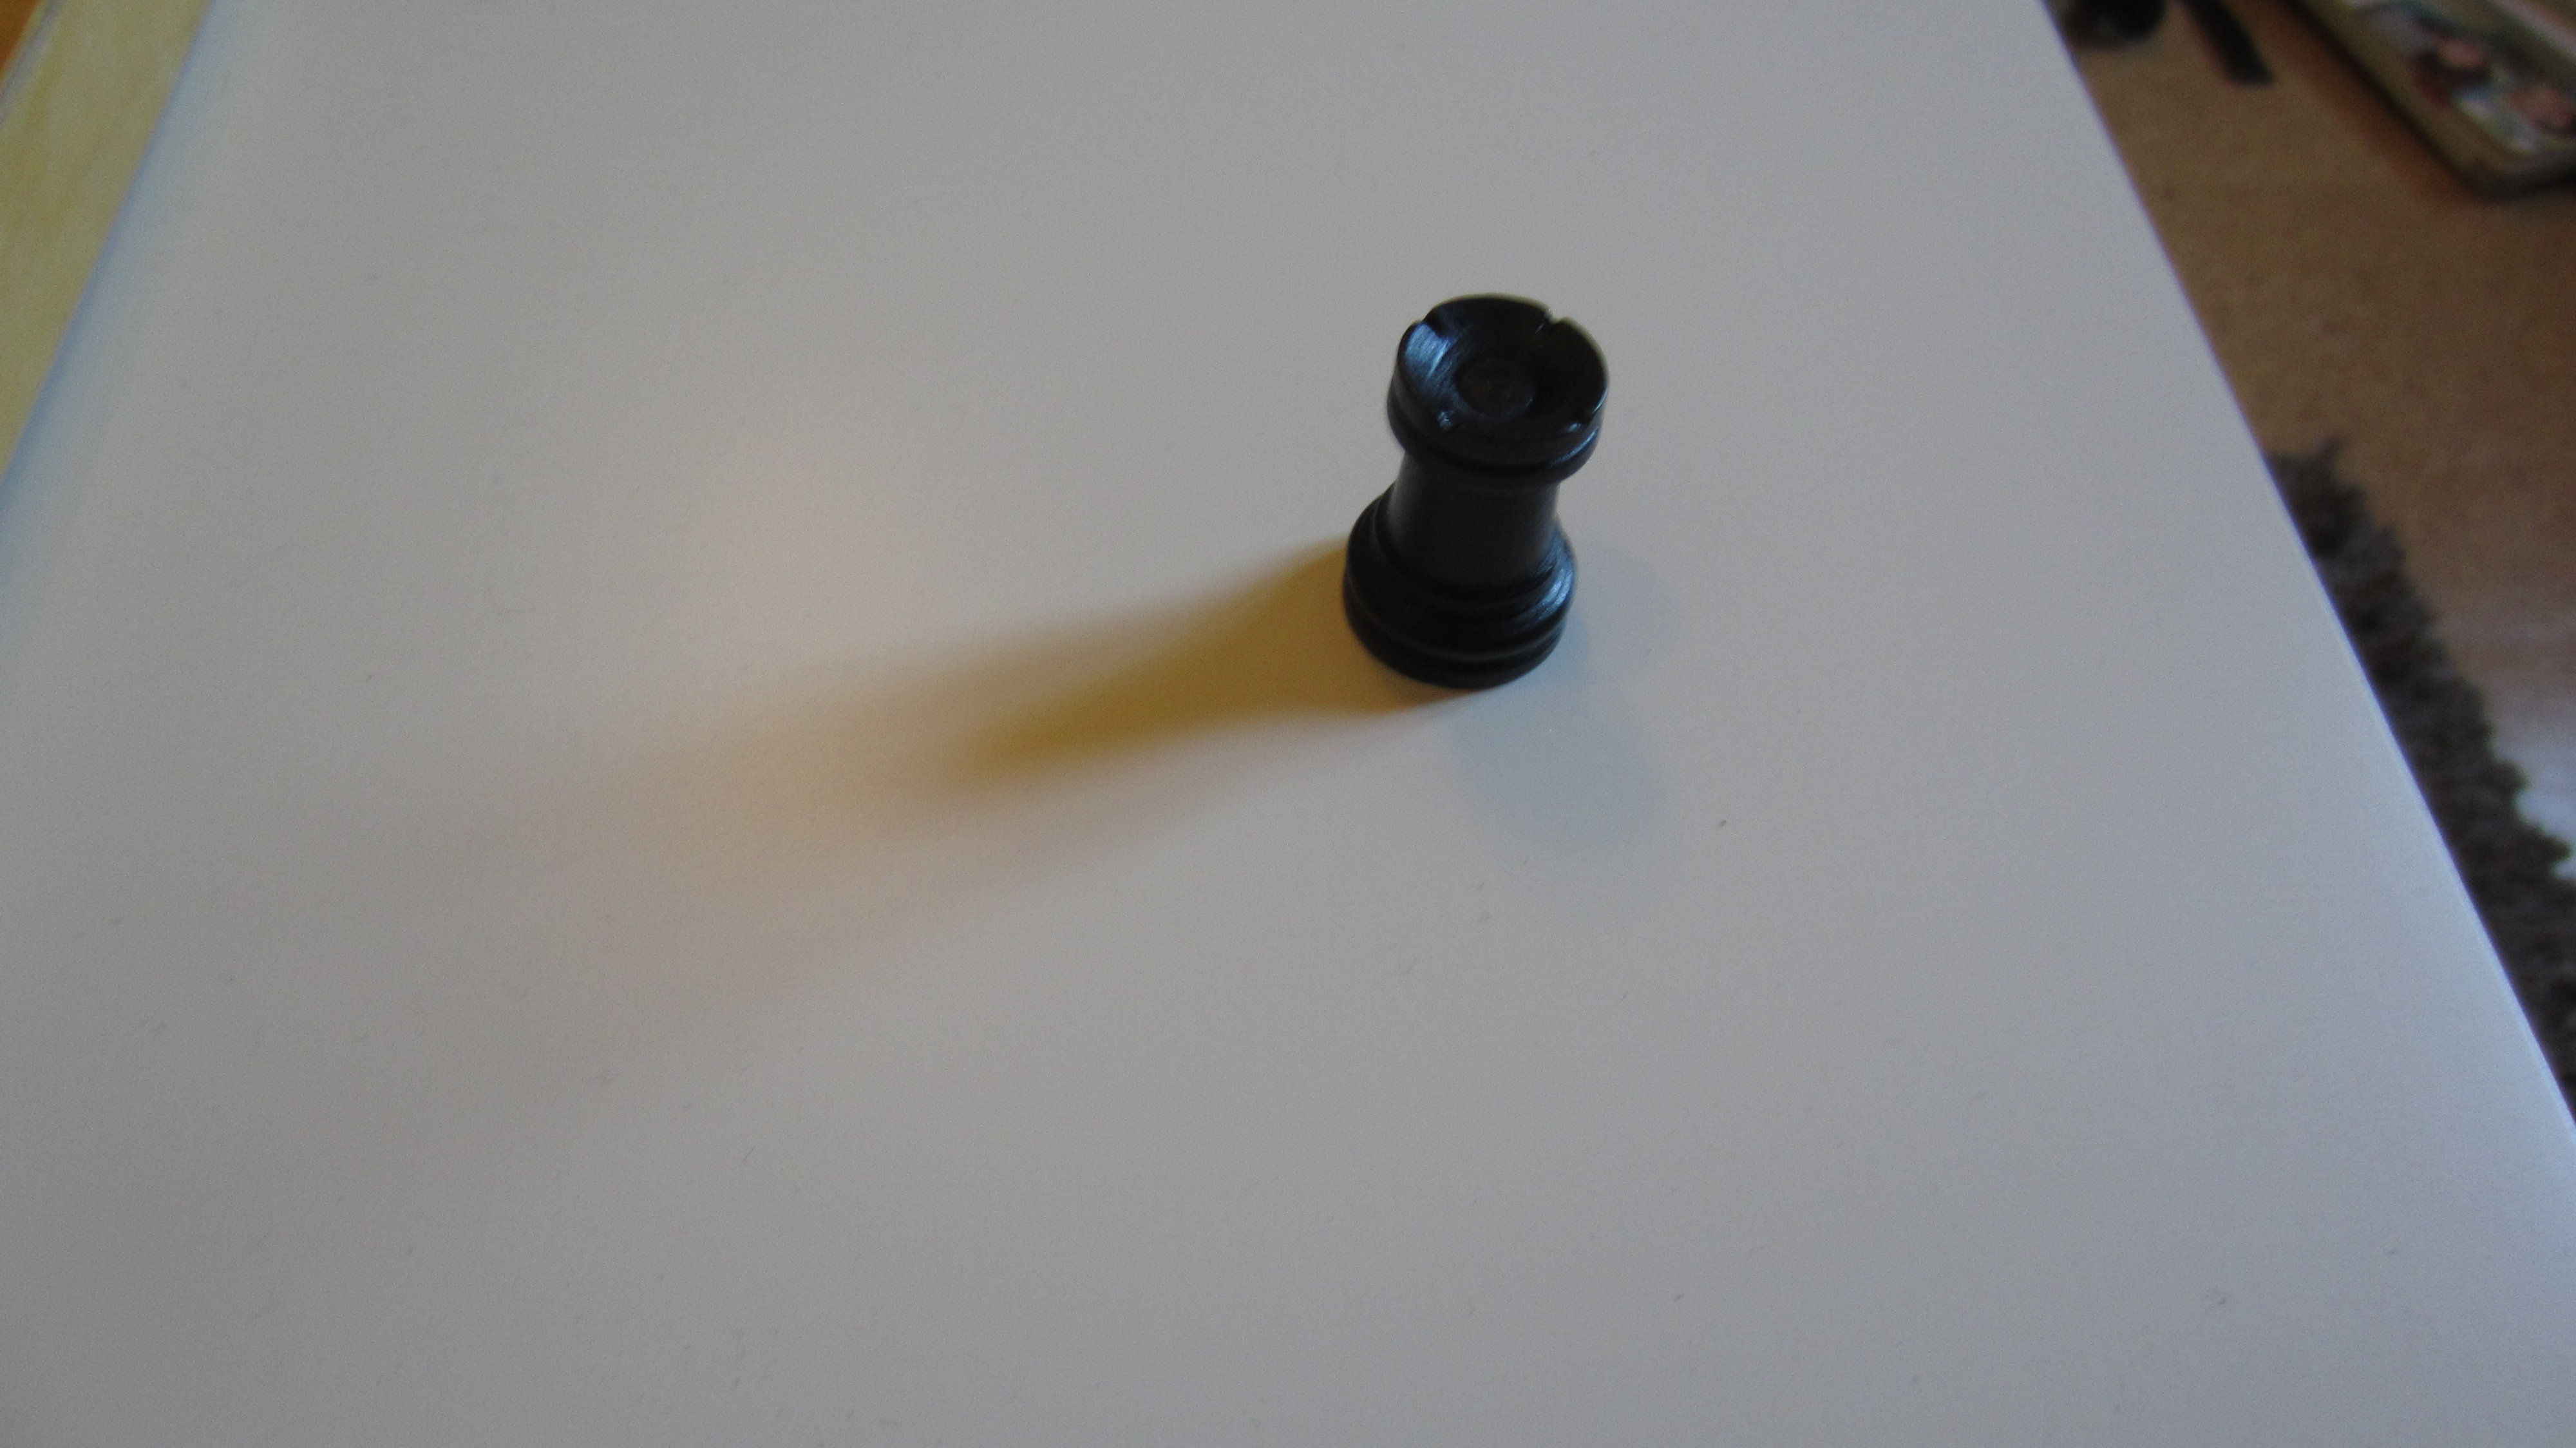black-rook: (1336, 289, 1621, 696)
